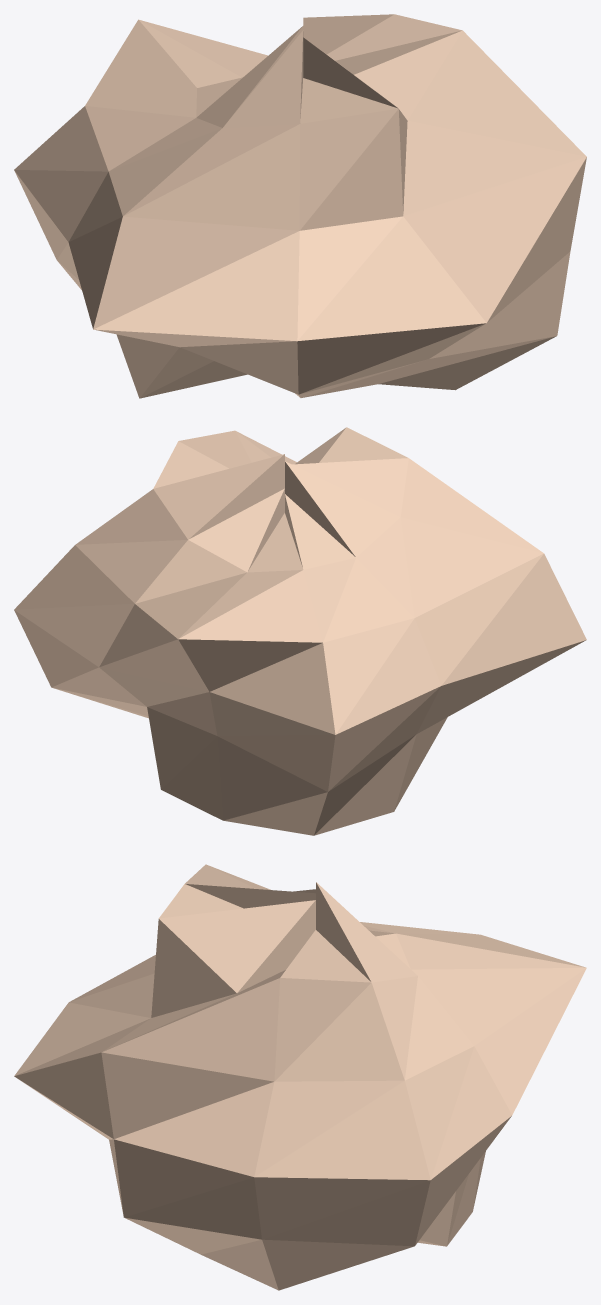
File: rock_080.obj
The picture shows the model from 3 angles, top to bottom: view 1: azimuth 30°, elevation 25°; view 2: azimuth 150°, elevation 25°; view 3: azimuth 270°, elevation 25°; orthographic projection. The views are drawn at different scales.
Bounding box in the file's own units: 1.55 × 1.03 × 1.54.
